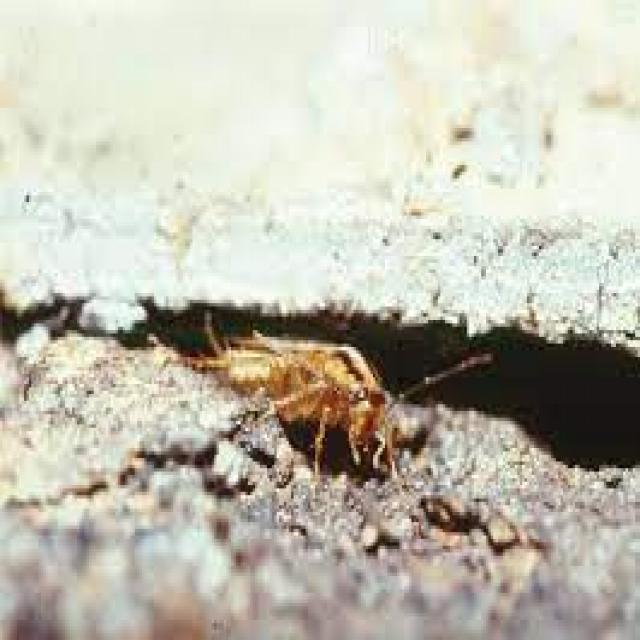Cockroach: (136, 290, 500, 534)
